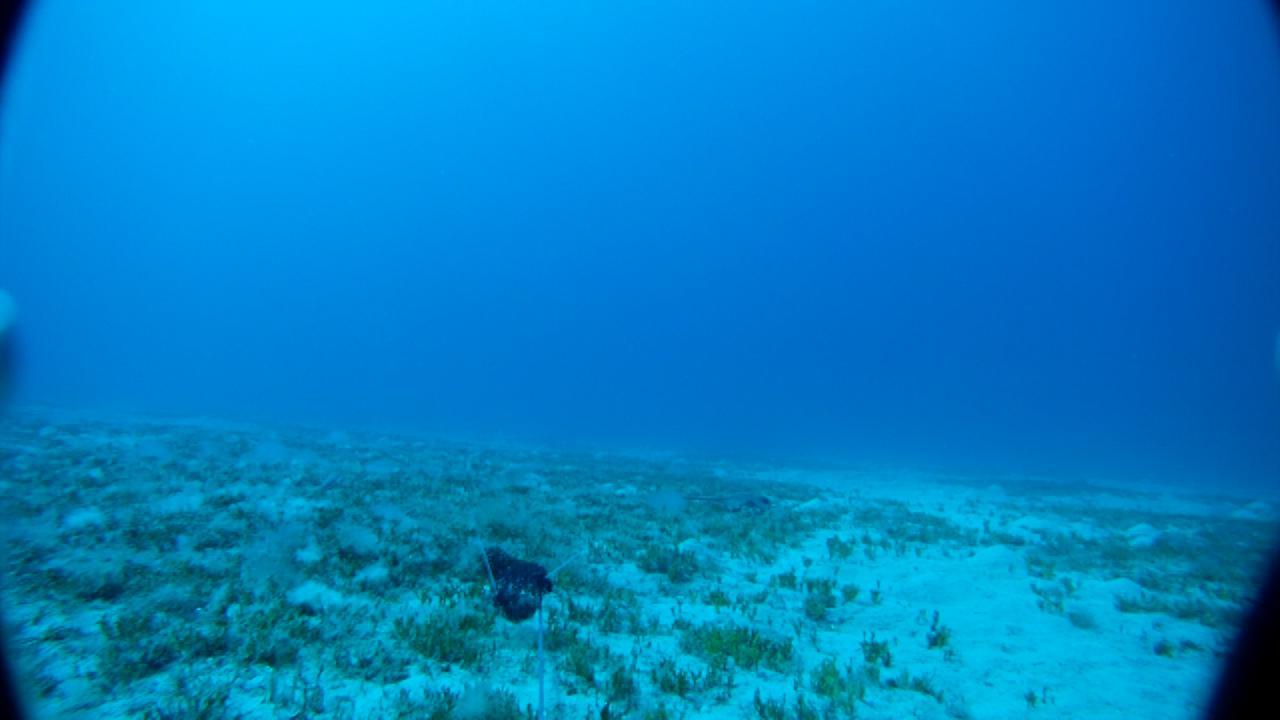dasyatis: (674, 492, 772, 516)
